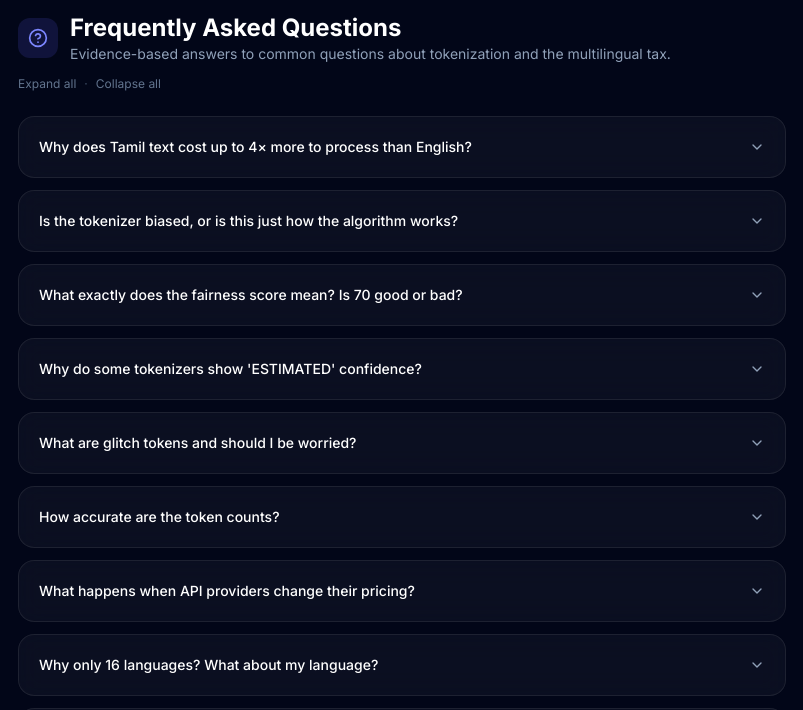
FAQPage › expand all shows all answers
Click the button "Expand all": (47, 84) [18,76,76,92]
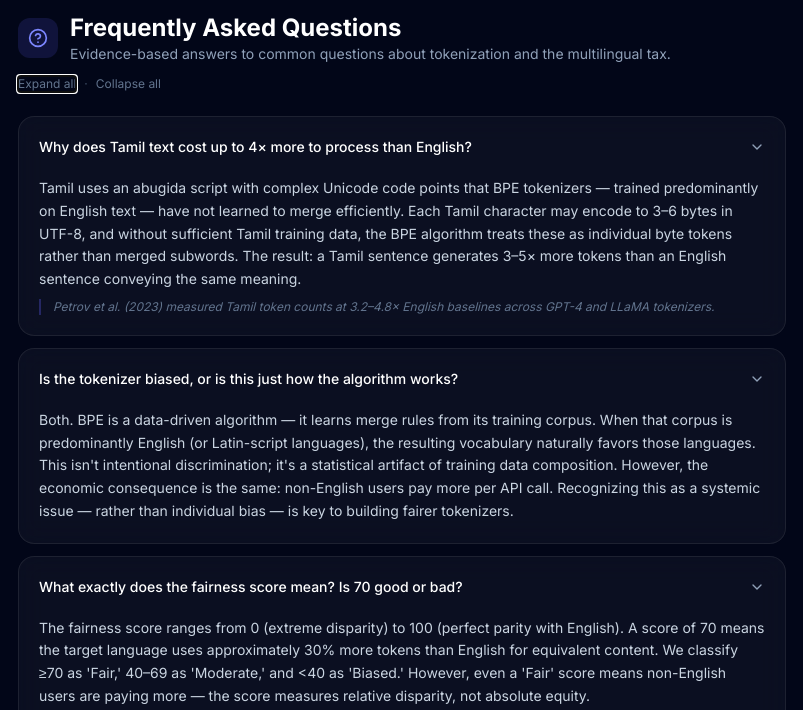
Result: the text "abugida script" is shown at [39,179,758,287]
Result: the text "data-driven algorithm" is shown at [39,411,760,519]
